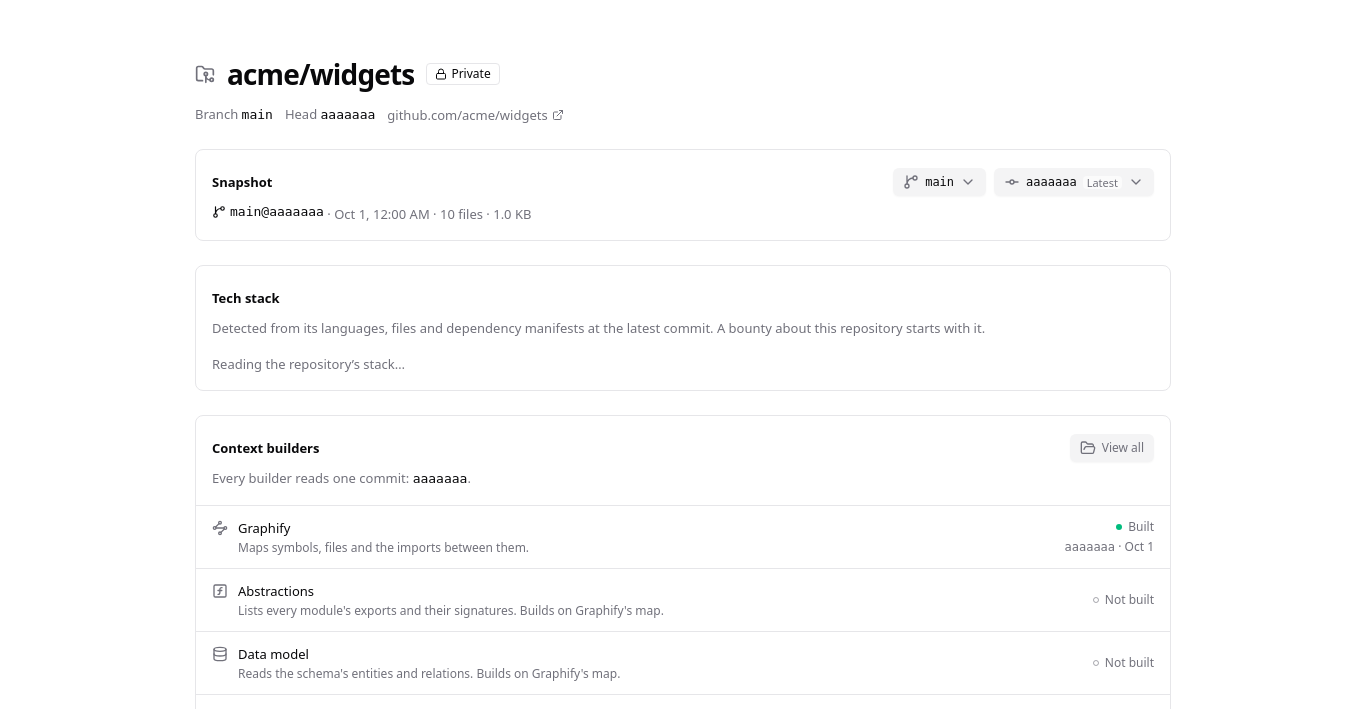
Test: a member is told the chosen commit is not the one built
Expected: the text "Built" is shown, 1116,519 -> 1154,535
Click the dropdown named "Source snapshot". click: (1074, 182)
box: 994,168 -> 1154,196
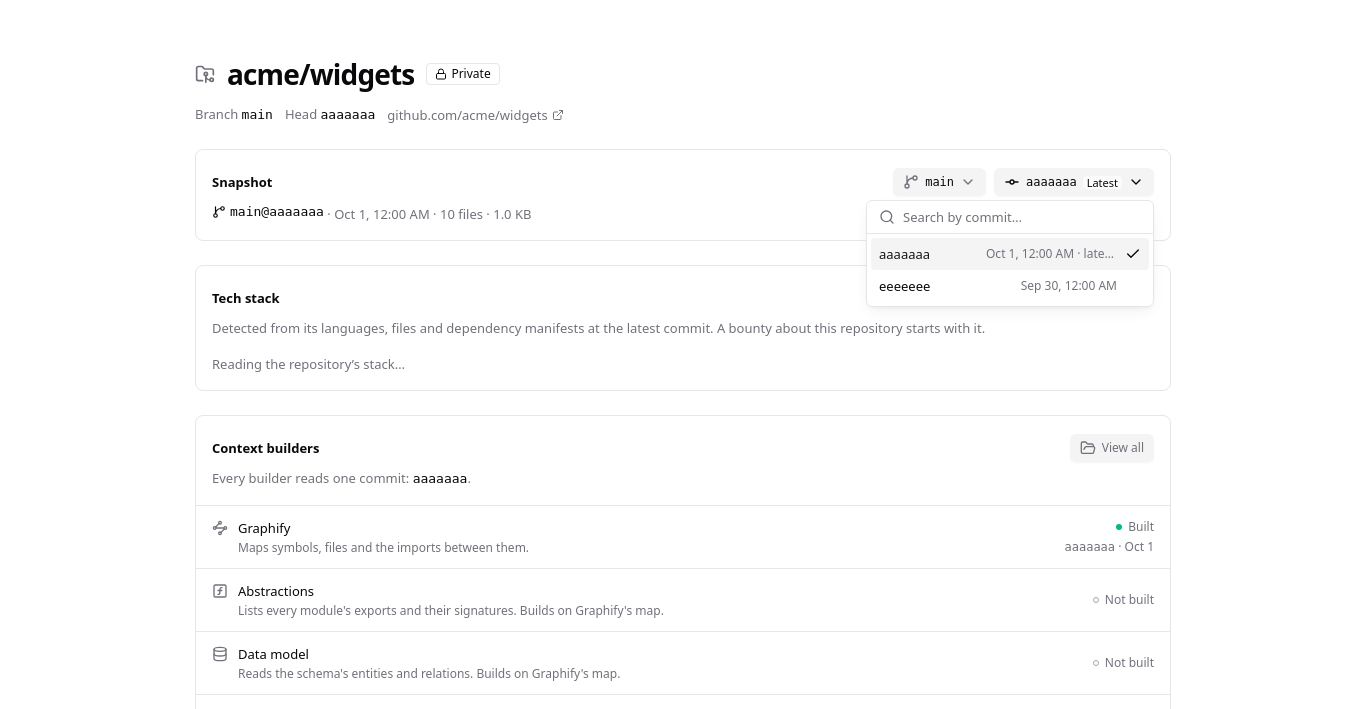
Click the option "eeeeeee Sep 30, 12:00 AM". click: (905, 286)
box: 879,277 -> 1117,295
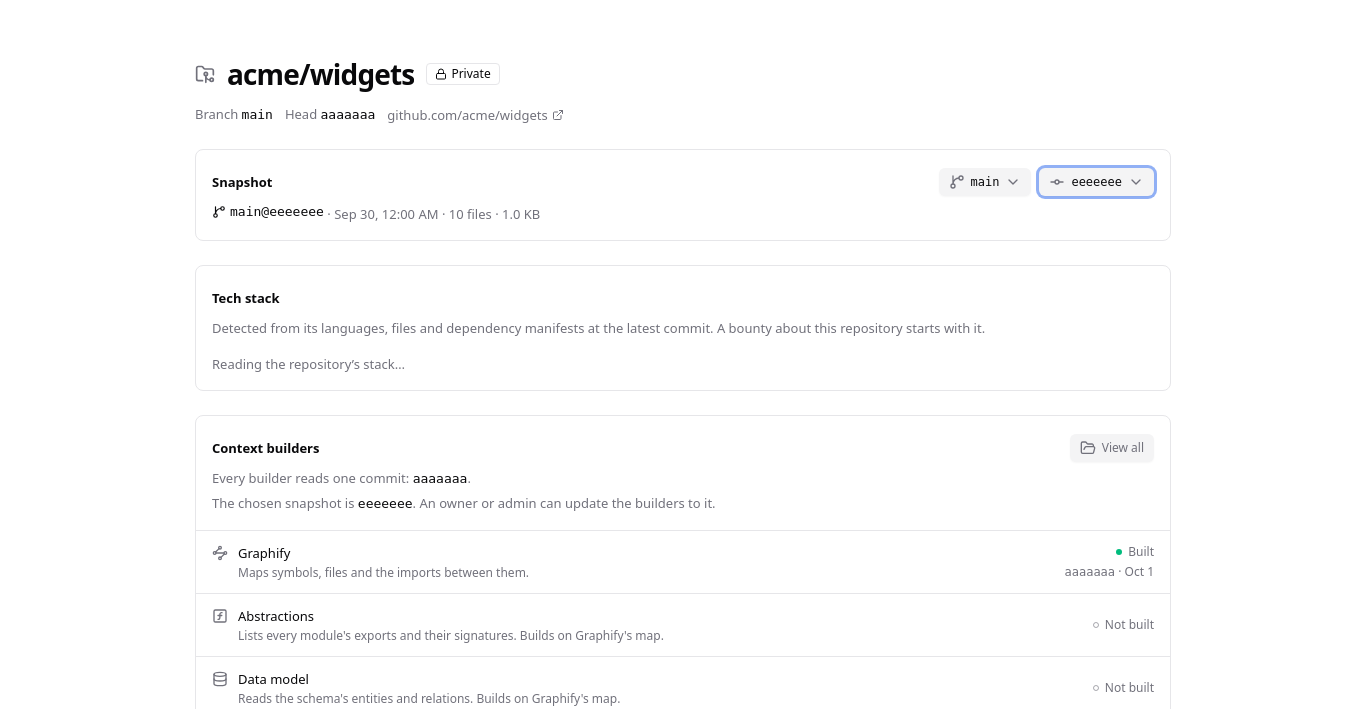
Expected: the text "An owner or admin can update the builders to it" is shown, 420,494 -> 716,512
